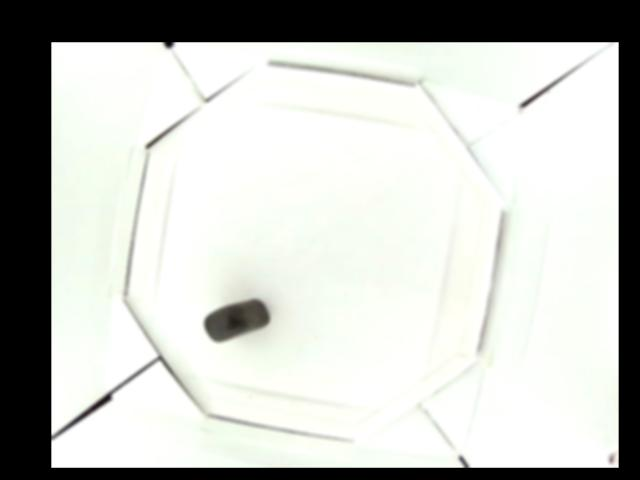Pebble: (203, 297, 267, 345)
